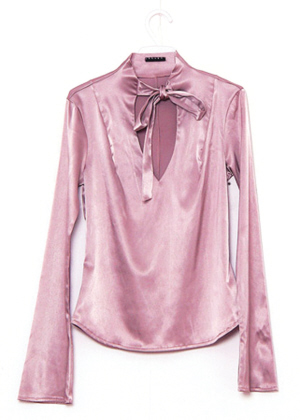flexible: (21, 52, 282, 407)
